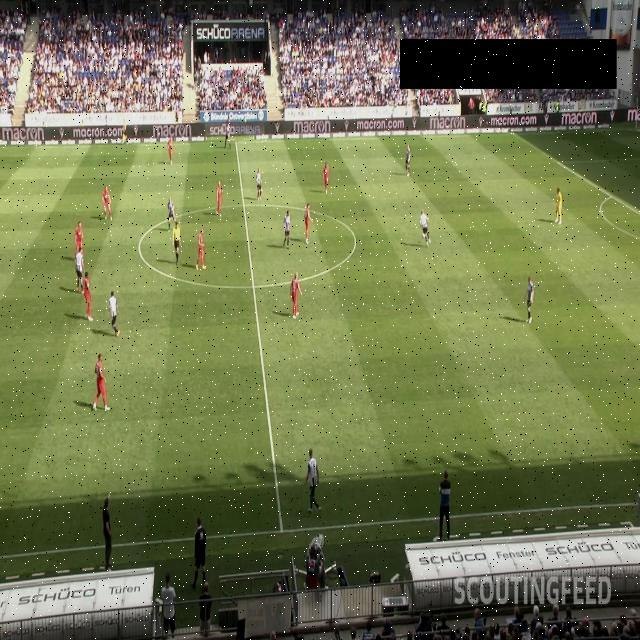Ball: (421, 232, 425, 238)
Corner: (631, 96, 640, 134)
GoalKeeper: (554, 187, 563, 225)
Referee: (172, 220, 182, 266), (121, 115, 129, 146)
TEAM 1: (92, 353, 110, 412), (290, 271, 304, 319), (84, 270, 94, 322), (195, 228, 207, 270), (101, 184, 112, 222), (74, 220, 84, 256), (304, 203, 312, 244), (322, 161, 330, 195), (216, 180, 222, 218), (167, 134, 174, 166)
TEAM 2: (304, 448, 322, 514), (108, 290, 121, 338), (419, 208, 431, 248), (524, 276, 534, 324), (75, 245, 85, 292), (283, 210, 291, 248), (168, 196, 176, 230), (224, 118, 232, 150), (255, 167, 262, 201), (405, 143, 411, 177)
